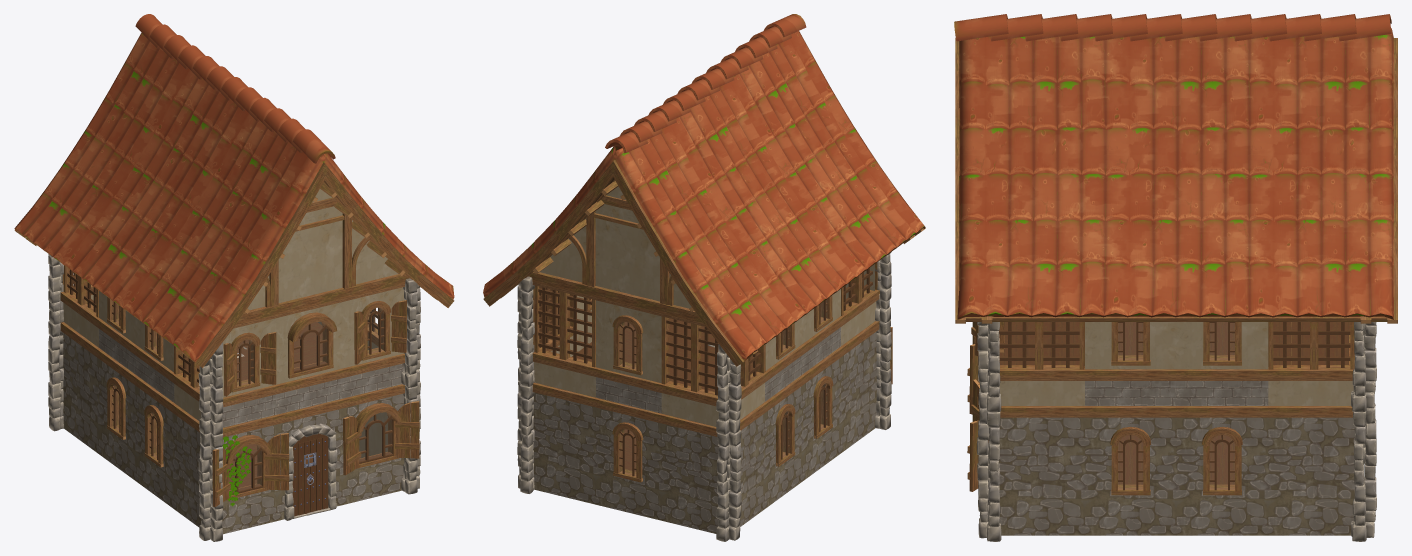
Rendered from house_shop_narrow_3.gltf.
The picture shows the model from 3 angles, left to right: view 1: azimuth 30°, elevation 25°; view 2: azimuth 150°, elevation 25°; view 3: azimuth 270°, elevation 25°; orthographic projection. The views are drawn at different scales.
Parts seen in each view (by area): view 1: House; view 2: House; view 3: House.
Boxes of the visible parts, x1,y1,x2,y2 form: House: [14, 14, 454, 541]; House: [483, 14, 925, 541]; House: [954, 14, 1397, 541].
Size of what is drawn, in the model's own units: 8.25 by 11.14 by 9.68.
Materials: 10 (9 with a texture image).
